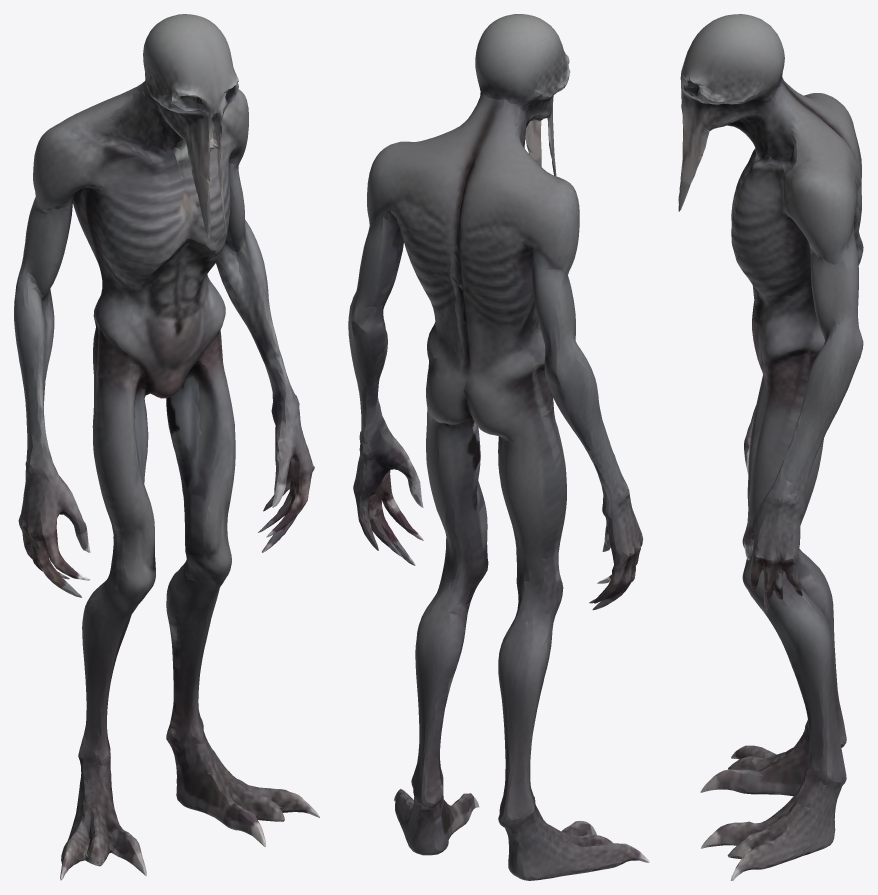
The model's file is monster_creature_base.glb.
3 views of the same model, side by side, from view 1: azimuth 30°, elevation 25°; view 2: azimuth 150°, elevation 25°; view 3: azimuth 270°, elevation 25° (orthographic). The views are drawn at different scales.
Parts seen in each view (by area): view 1: Monster_AI_v2; view 2: Monster_AI_v2; view 3: Monster_AI_v2.
Part boxes in pixels (bbox=[...]): Monster_AI_v2: bbox=[14, 14, 319, 880]; Monster_AI_v2: bbox=[348, 14, 649, 880]; Monster_AI_v2: bbox=[678, 14, 863, 880].
Bounding box in the file's own units: 0.8337 × 2.34 × 0.4882.
1 material, 1 textured.
